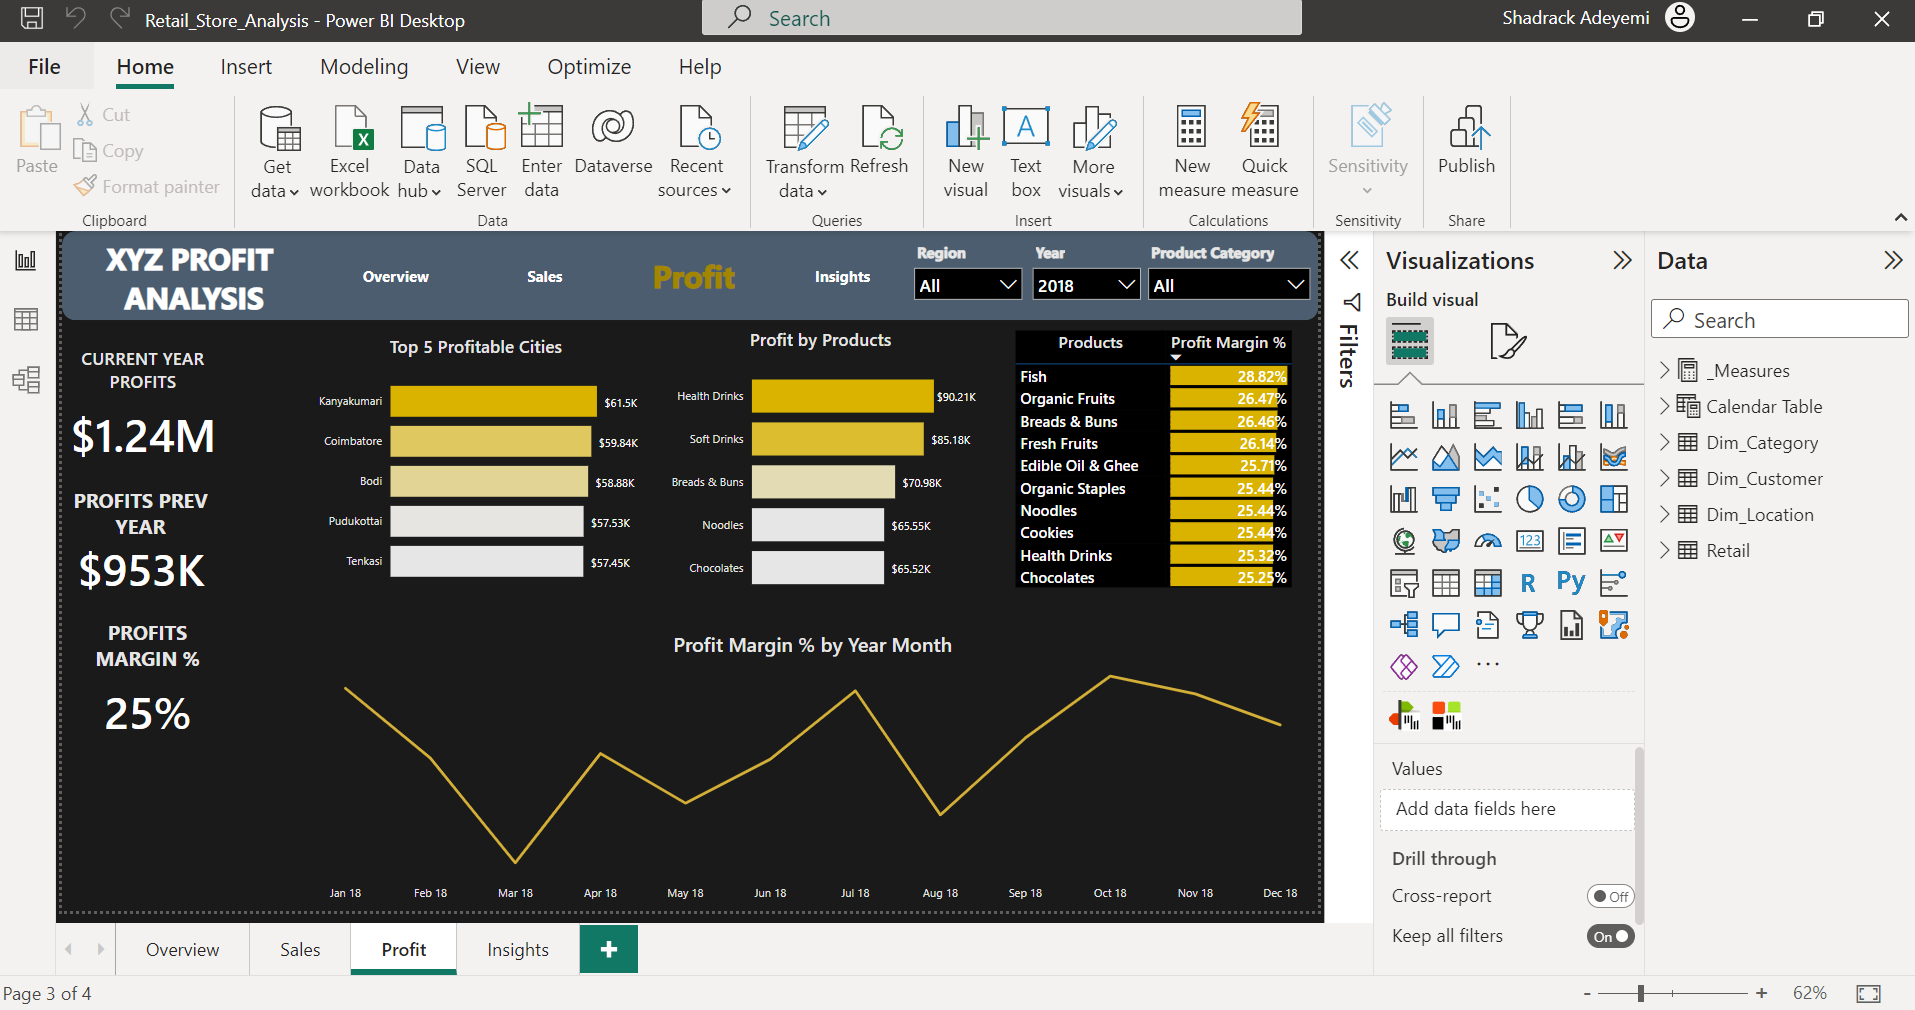

The page's visual inventory and layout, read from the dashboard file:
{"tool":"powerbi","page":{"name":"Profit","canvas":[1350,730],"ordinal":2},"visuals":[{"type":"card","title":"PROFITS MARGIN %","fields":{"Values":["_Measures.Profit Margin %"]},"box":[0,415,183.8,141.2],"z":0},{"type":"tableEx","fields":{"Values":["Dim_Category.Sub Category","_Measures.Profit Margin %"]},"box":[1018.8,101.2,331.2,301.2],"z":1000},{"type":"lineChart","fields":{"Category":["Calendar Table.Year Month"],"Y":["_Measures.Profit Margin %"]},"box":[262.5,428.8,1087.5,301.2],"z":2000},{"type":"clusteredBarChart","title":"Top 5 Profitable Cities","fields":{"Category":["Dim_Location.City"],"Y":["_Measures.Total Profit"]},"box":[262.5,111.2,363.8,283.8],"z":3000},{"type":"clusteredBarChart","title":"Profit by Products","fields":{"Category":["Dim_Category.Sub Category"],"Y":["_Measures.Total Profit"]},"box":[643.8,102.5,343.8,301.2],"z":4000},{"type":"card","title":"CURRENT YEAR PROFITS","fields":{"Values":["_Measures.Profit CY"]},"box":[0,123.8,173.8,137.5],"z":5000},{"type":"shape","box":[0,0,1350,96.2],"z":6000},{"type":"textbox","box":[0,1.2,283.8,95],"z":7000},{"type":"slicer","fields":{"Values":["Calendar Table.Year"]},"box":[1032.5,6.2,136.2,77.5],"z":8000},{"type":"slicer","fields":{"Values":["Dim_Category.Category"]},"box":[1156.2,6.2,193.8,77.5],"z":9000},{"type":"slicer","fields":{"Values":["Dim_Location.Region"]},"box":[905,6.2,136.2,77.5],"z":10000},{"type":"card","title":"PROFITS PREV YEAR","fields":{"Values":["_Measures.Profit PY"]},"box":[0,273.8,168.8,116.2],"z":11000},{"type":"pageNavigator","box":[283.8,0,630,96.2],"z":12000}]}

Visuals, with their boxes on the page's 1350x730 design canvas (x1, y1, x2, y2). These are canvas units, not pixel positions in the 1915x1010 screenshot, which may show the page scaled, cropped or inside an application window:
"PROFITS MARGIN %" card: {"left": 0, "top": 415, "right": 184, "bottom": 556}
tableEx - Dim_Category.Sub Category x _Measures.Profit Margin %: {"left": 1019, "top": 101, "right": 1350, "bottom": 402}
lineChart - Calendar Table.Year Month x _Measures.Profit Margin %: {"left": 262, "top": 429, "right": 1350, "bottom": 730}
"Top 5 Profitable Cities" clusteredBarChart: {"left": 262, "top": 111, "right": 626, "bottom": 395}
"Profit by Products" clusteredBarChart: {"left": 644, "top": 102, "right": 988, "bottom": 404}
"CURRENT YEAR PROFITS" card: {"left": 0, "top": 124, "right": 174, "bottom": 261}
shape: {"left": 0, "top": 0, "right": 1350, "bottom": 96}
textbox: {"left": 0, "top": 1, "right": 284, "bottom": 96}
slicer - Calendar Table.Year: {"left": 1032, "top": 6, "right": 1169, "bottom": 84}
slicer - Dim_Category.Category: {"left": 1156, "top": 6, "right": 1350, "bottom": 84}
slicer - Dim_Location.Region: {"left": 905, "top": 6, "right": 1041, "bottom": 84}
"PROFITS PREV YEAR" card: {"left": 0, "top": 274, "right": 169, "bottom": 390}
pageNavigator: {"left": 284, "top": 0, "right": 914, "bottom": 96}
